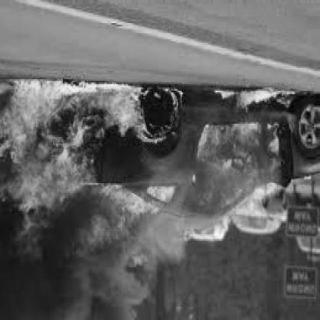Fire: (0, 78, 184, 275), (186, 119, 300, 216), (211, 88, 297, 118)
